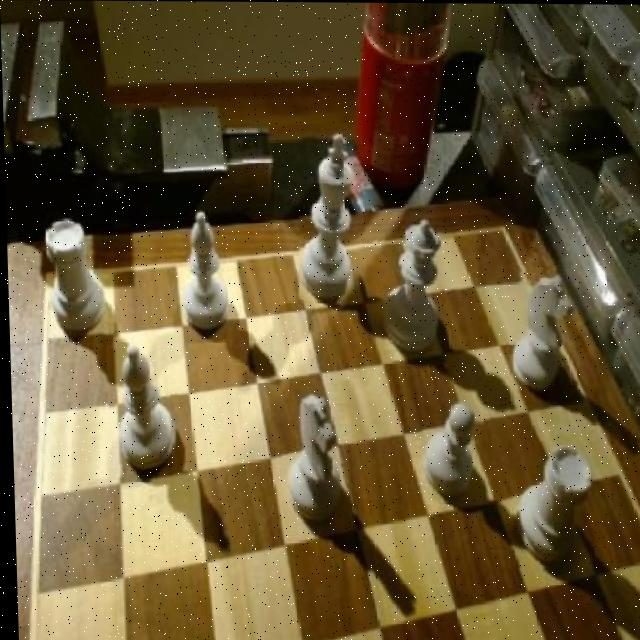black-rook: (103, 334, 178, 476), (174, 207, 228, 335)
white-bishop: (294, 131, 361, 304)
white-king: (276, 391, 346, 533), (505, 271, 575, 390)
white-knight: (417, 402, 482, 505)
white-pawn: (376, 211, 444, 357)
white-queen: (505, 441, 590, 568), (43, 214, 102, 342)
